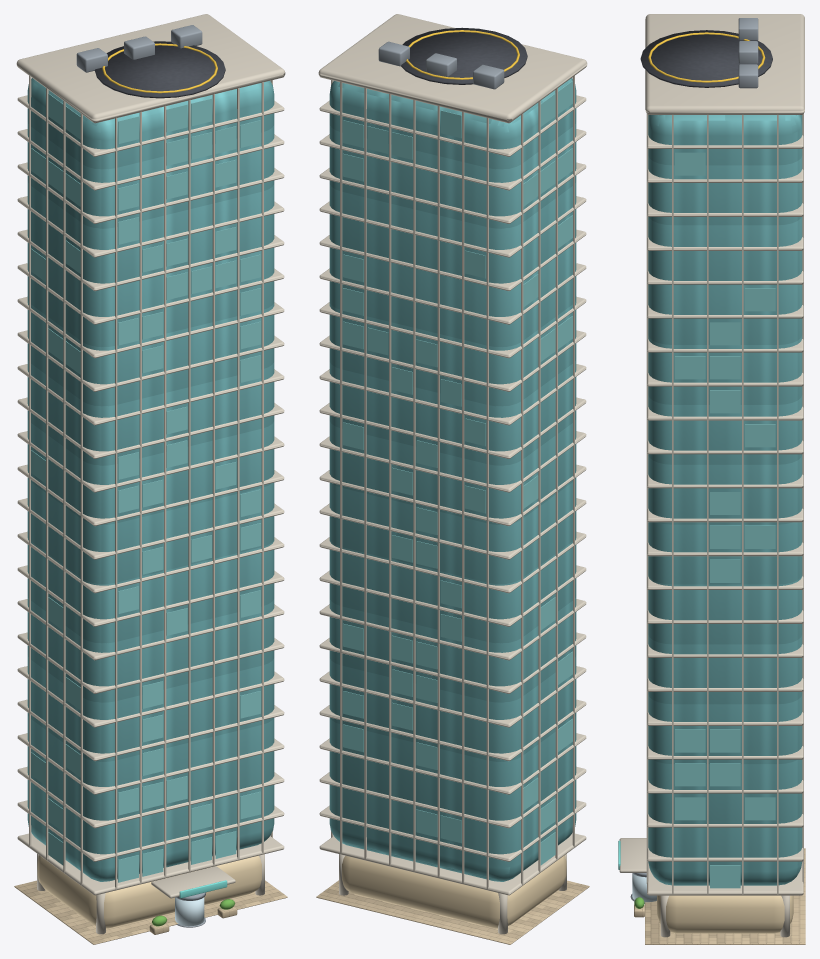
The model's file is tower_d.gltf.
The picture shows the model from 3 angles, left to right: view 1: azimuth 30°, elevation 25°; view 2: azimuth 150°, elevation 25°; view 3: azimuth 270°, elevation 25°; orthographic projection.
Visible parts, largest first — view 1: tower_d_mesh; view 2: tower_d_mesh; view 3: tower_d_mesh.
Boxes of the visible parts, <box> form: tower_d_mesh: <box>14,14,287,944</box>; tower_d_mesh: <box>316,14,589,944</box>; tower_d_mesh: <box>618,14,805,944</box>.
Size of what is drawn, in the model's own units: 20.6 by 85.3 by 17.02.
Materials: 11 (3 with a texture image).
